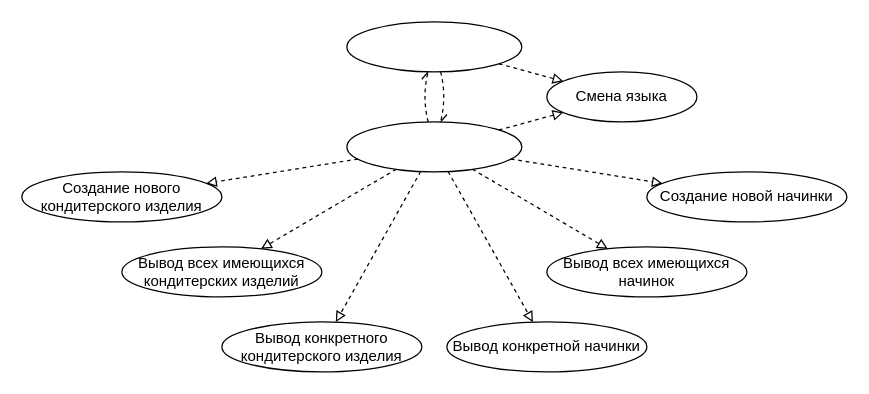
Some shapes in this 869 by 394 pixel diagram are drawn without their labels. Here are the shapes that lost their labels. From the top down, the centre of each, then its label:
At (434,46): "Начальный экран".
At (434,146): "Демонстрация работы объектов".
